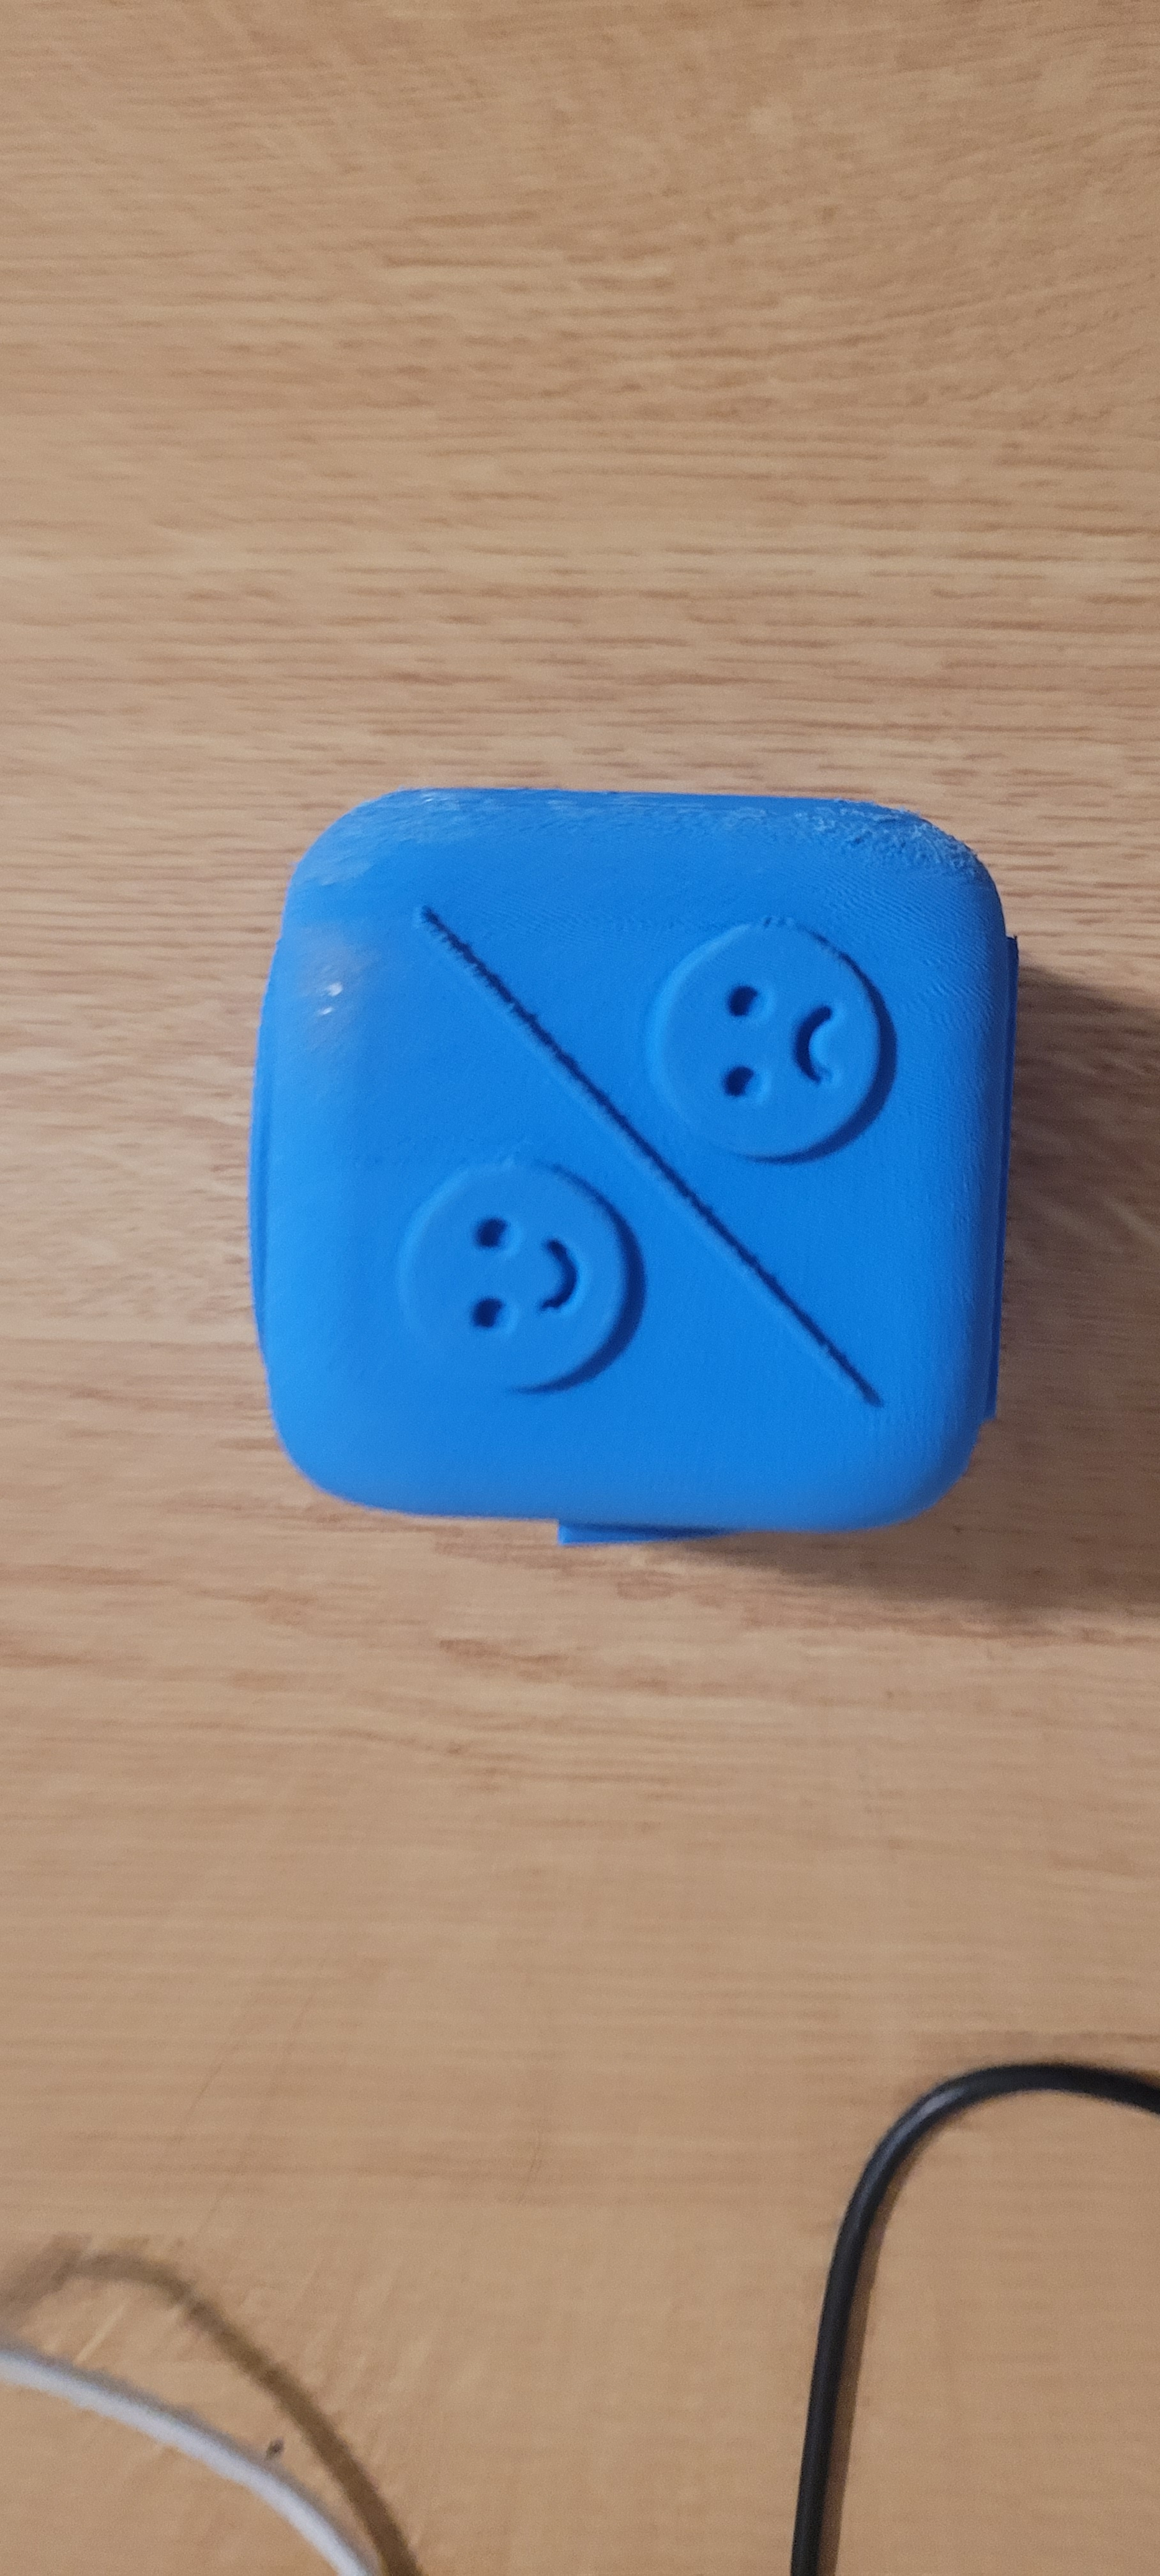Like/Dislike: (268, 831, 973, 1451)
